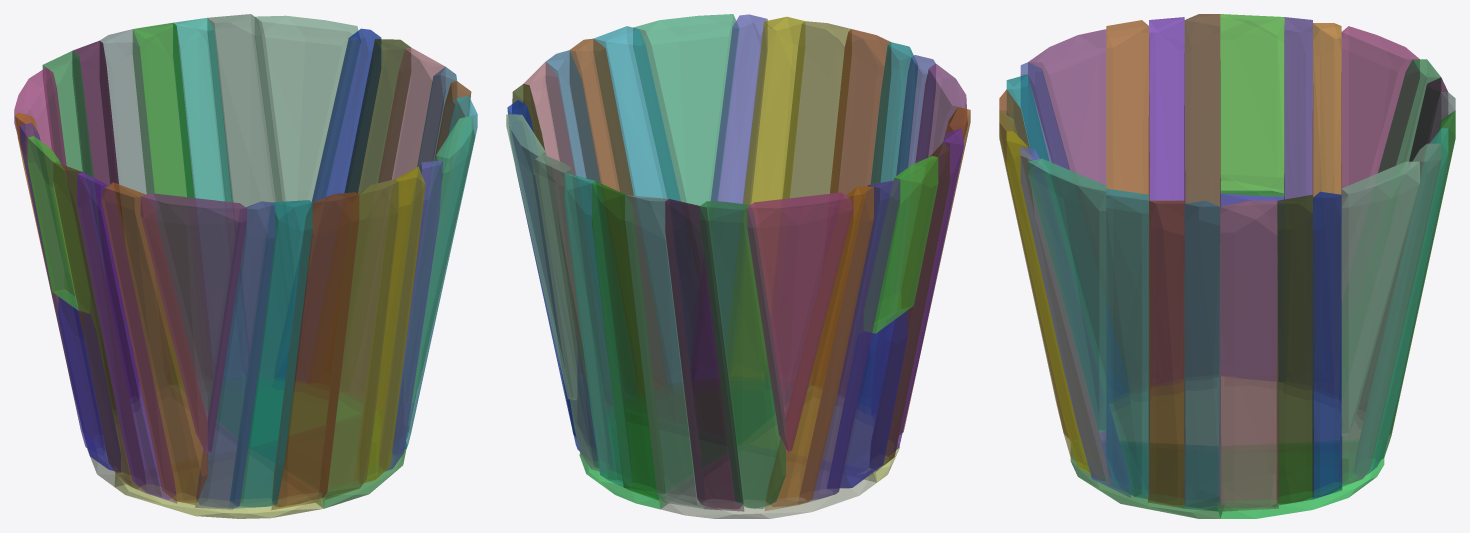
3 renders of one model, left to right at view 1: azimuth 30°, elevation 25°; view 2: azimuth 150°, elevation 25°; view 3: azimuth 270°, elevation 25°, orthographic.
Visible parts, largest first — view 1: Shape_IndexedFaceSet.005, Shape_IndexedFaceSet.023, Shape_IndexedFaceSet.024, Shape_IndexedFaceSet.018, Shape_IndexedFaceSet.017, Shape_IndexedFaceSet.006, Shape_IndexedFaceSet.026, Shape_IndexedFaceSet.022, Shape_IndexedFaceSet.025, Shape_IndexedFaceSet.016, Shape_IndexedFaceSet.015, Shape_IndexedFaceSet.021 (+21 smaller); view 2: Shape_IndexedFaceSet.008, Shape_IndexedFaceSet.032, Shape_IndexedFaceSet.007, Shape_IndexedFaceSet.006, Shape_IndexedFaceSet.010, Shape_IndexedFaceSet.031, Shape_IndexedFaceSet.009, Shape_IndexedFaceSet.011, Shape_IndexedFaceSet.015, Shape_IndexedFaceSet.027, Shape_IndexedFaceSet.012, Shape_IndexedFaceSet.028 (+21 smaller); view 3: Shape_IndexedFaceSet.004, Shape_IndexedFaceSet.023, Shape_IndexedFaceSet.031, Shape_IndexedFaceSet.021, Shape_IndexedFaceSet.022, Shape_IndexedFaceSet.017, Shape_IndexedFaceSet.018, Shape_IndexedFaceSet.014, Shape_IndexedFaceSet.007, Shape_IndexedFaceSet.032, Shape_IndexedFaceSet.013, Shape_IndexedFaceSet.029 (+21 smaller).
Boxes of the visible parts, x1,y1,x2,y2 form: Shape_IndexedFaceSet.005: [271, 192, 359, 509]; Shape_IndexedFaceSet.023: [101, 182, 207, 504]; Shape_IndexedFaceSet.024: [140, 193, 246, 453]; Shape_IndexedFaceSet.018: [255, 15, 360, 281]; Shape_IndexedFaceSet.017: [207, 14, 288, 376]; Shape_IndexedFaceSet.006: [319, 179, 398, 499]; Shape_IndexedFaceSet.026: [230, 200, 312, 508]; Shape_IndexedFaceSet.022: [77, 172, 176, 503]; Shape_IndexedFaceSet.025: [195, 201, 274, 509]; Shape_IndexedFaceSet.016: [173, 18, 246, 376]; Shape_IndexedFaceSet.015: [132, 22, 207, 381]; Shape_IndexedFaceSet.021: [53, 162, 146, 492]; Shape_IndexedFaceSet.008: [699, 201, 785, 508]; Shape_IndexedFaceSet.032: [633, 14, 738, 282]; Shape_IndexedFaceSet.007: [747, 192, 853, 452]; Shape_IndexedFaceSet.006: [768, 21, 851, 382]; Shape_IndexedFaceSet.010: [625, 195, 705, 508]; Shape_IndexedFaceSet.031: [593, 26, 696, 383]; Shape_IndexedFaceSet.009: [665, 199, 743, 511]; Shape_IndexedFaceSet.011: [765, 186, 873, 510]; Shape_IndexedFaceSet.015: [592, 181, 664, 500]; Shape_IndexedFaceSet.027: [729, 16, 804, 378]; Shape_IndexedFaceSet.012: [799, 179, 900, 502]; Shape_IndexedFaceSet.028: [692, 14, 767, 380]; Shape_IndexedFaceSet.004: [1219, 200, 1278, 511]; Shape_IndexedFaceSet.023: [1106, 20, 1149, 390]; Shape_IndexedFaceSet.031: [1106, 188, 1149, 498]; Shape_IndexedFaceSet.021: [1184, 14, 1220, 377]; Shape_IndexedFaceSet.022: [1149, 17, 1185, 385]; Shape_IndexedFaceSet.017: [1339, 143, 1441, 486]; Shape_IndexedFaceSet.018: [1341, 161, 1419, 435]; Shape_IndexedFaceSet.014: [1220, 14, 1284, 196]; Shape_IndexedFaceSet.007: [1341, 26, 1419, 299]; Shape_IndexedFaceSet.032: [1028, 158, 1106, 432]; Shape_IndexedFaceSet.013: [1220, 191, 1284, 381]; Shape_IndexedFaceSet.029: [1184, 200, 1220, 511].
Size of the model in its own units: 0.6211 by 0.5143 by 0.6211.
